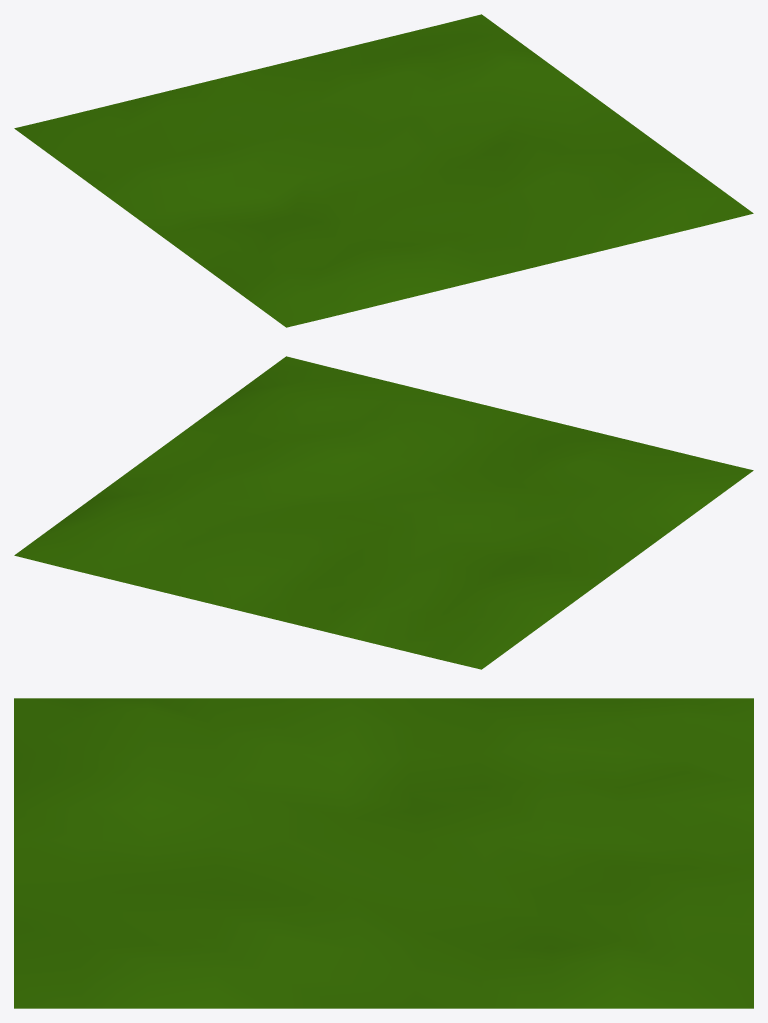
File: Cave Cross.fbx
3 renders of one model, top to bottom at view 1: azimuth 30°, elevation 25°; view 2: azimuth 150°, elevation 25°; view 3: azimuth 270°, elevation 25°, orthographic. The views are drawn at different scales.
Visible parts, largest first — view 1: Snow.006; view 2: Snow.006; view 3: Snow.006.
Part boxes in pixels (x1,y1,x2,y2): Snow.006: [14, 14, 753, 327]; Snow.006: [14, 356, 753, 669]; Snow.006: [14, 698, 753, 1008].
Size of the model in its own units: 200 by 8.03 by 202.
